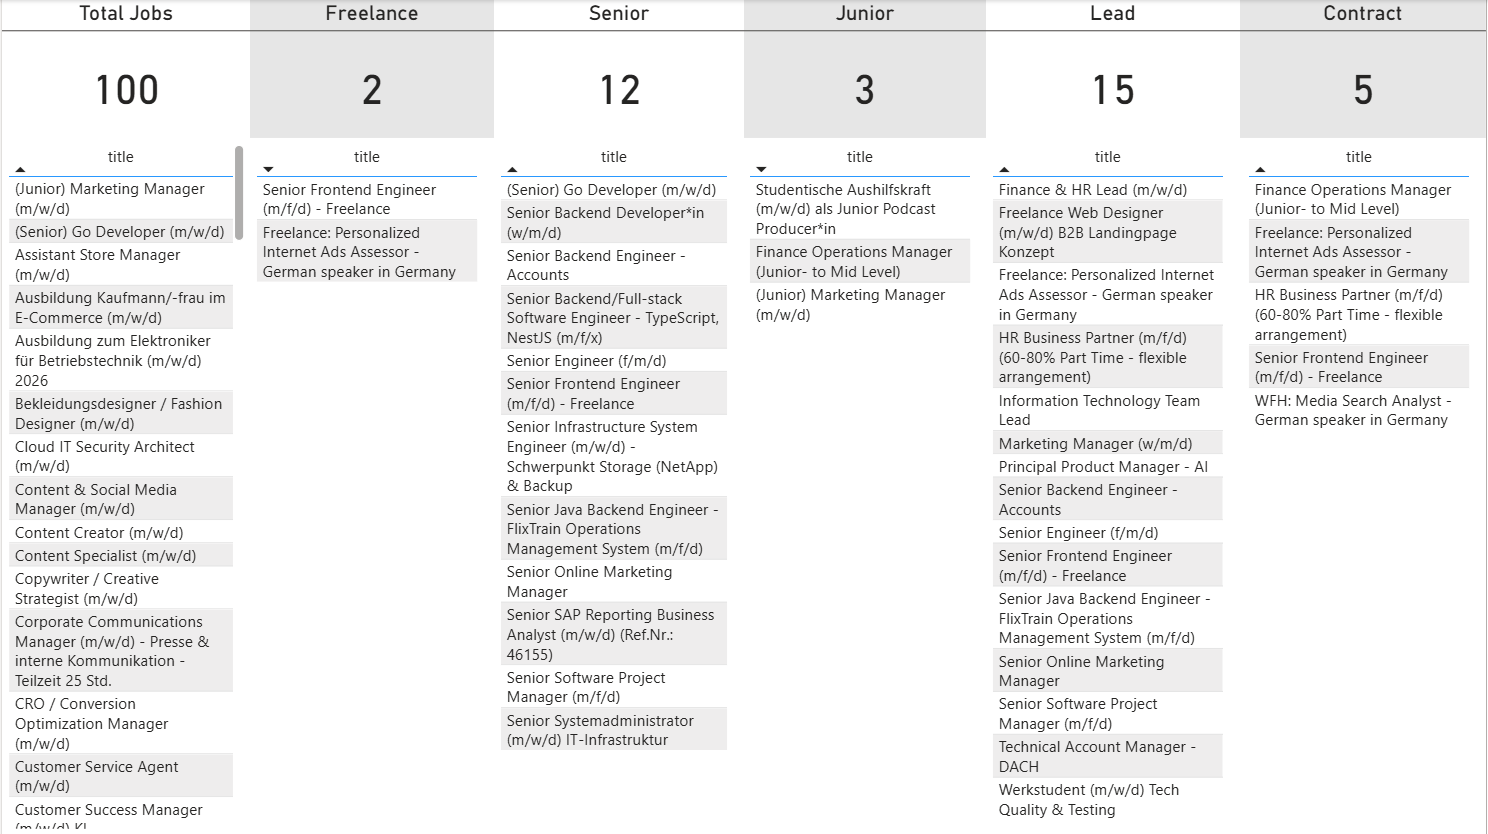

This screenshot's page, from the dashboard's own definition file:
{"tool":"powerbi","page":{"name":"Jobs by Category","canvas":[1280,720],"ordinal":2},"visuals":[{"type":"card","title":"Total Jobs","fields":{"Values":["CountNonNull(public jobs_silver.job_id)"]},"box":[0,0,213.9,119.2],"z":0},{"type":"card","title":"Freelance","fields":{"Values":["CountNonNull(public jobs_silver.job_id)"]},"box":[213.9,0,210.6,119.2],"z":1000},{"type":"card","title":"Senior","fields":{"Values":["CountNonNull(public jobs_silver.job_id)"]},"box":[424.5,0,215.5,119.2],"z":2000},{"type":"card","title":"Junior","fields":{"Values":["CountNonNull(public jobs_silver.job_id)"]},"box":[640,0,209,119.2],"z":3000},{"type":"card","title":"Lead","fields":{"Values":["CountNonNull(public jobs_silver.job_id)"]},"box":[849,0,218.8,119.2],"z":4000},{"type":"card","title":"Contract","fields":{"Values":["CountNonNull(public jobs_silver.job_id)"]},"box":[1067.8,0,212.2,119.2],"z":5000},{"type":"tableEx","fields":{"Values":["public jobs_silver.title"]},"box":[214,119.6,210.1,600.1],"z":6000},{"type":"tableEx","fields":{"Values":["public jobs_silver.title"]},"box":[424.1,119.6,215.9,600.1],"z":7000},{"type":"tableEx","fields":{"Values":["public jobs_silver.title"]},"box":[639,119.6,210.1,600.1],"z":8000},{"type":"tableEx","fields":{"Values":["public jobs_silver.title"]},"box":[849.1,119.6,218.8,600.1],"z":9000},{"type":"tableEx","fields":{"Values":["public jobs_silver.title"]},"box":[1069.9,119.6,210.1,600.1],"z":10000},{"type":"tableEx","fields":{"Values":["public jobs_silver.title"]},"box":[0,119.6,214,600.1],"z":10001}]}

Visuals, with their boxes in screenshot pixels (x1, y1, x2, y2), scaled from the page's 1280x720 canvas onto the 1488x834 screenshot:
"Total Jobs" card: (0, 0, 249, 138)
"Freelance" card: (249, 0, 493, 138)
"Senior" card: (493, 0, 744, 138)
"Junior" card: (744, 0, 987, 138)
"Lead" card: (987, 0, 1241, 138)
"Contract" card: (1241, 0, 1487, 138)
tableEx - public jobs_silver.title: (249, 139, 493, 833)
tableEx - public jobs_silver.title: (493, 139, 744, 833)
tableEx - public jobs_silver.title: (743, 139, 987, 833)
tableEx - public jobs_silver.title: (987, 139, 1241, 833)
tableEx - public jobs_silver.title: (1244, 139, 1487, 833)
tableEx - public jobs_silver.title: (0, 139, 249, 833)
